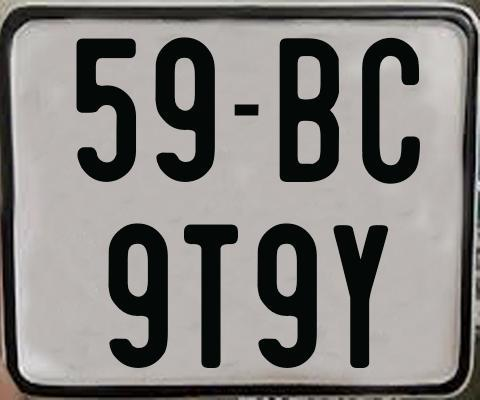5: (76, 36, 140, 186)
9: (155, 36, 220, 186), (256, 221, 319, 366), (105, 223, 166, 371)
B: (277, 38, 341, 187)
C: (361, 35, 425, 183)
T: (183, 223, 238, 368)
Y: (330, 225, 388, 369)
